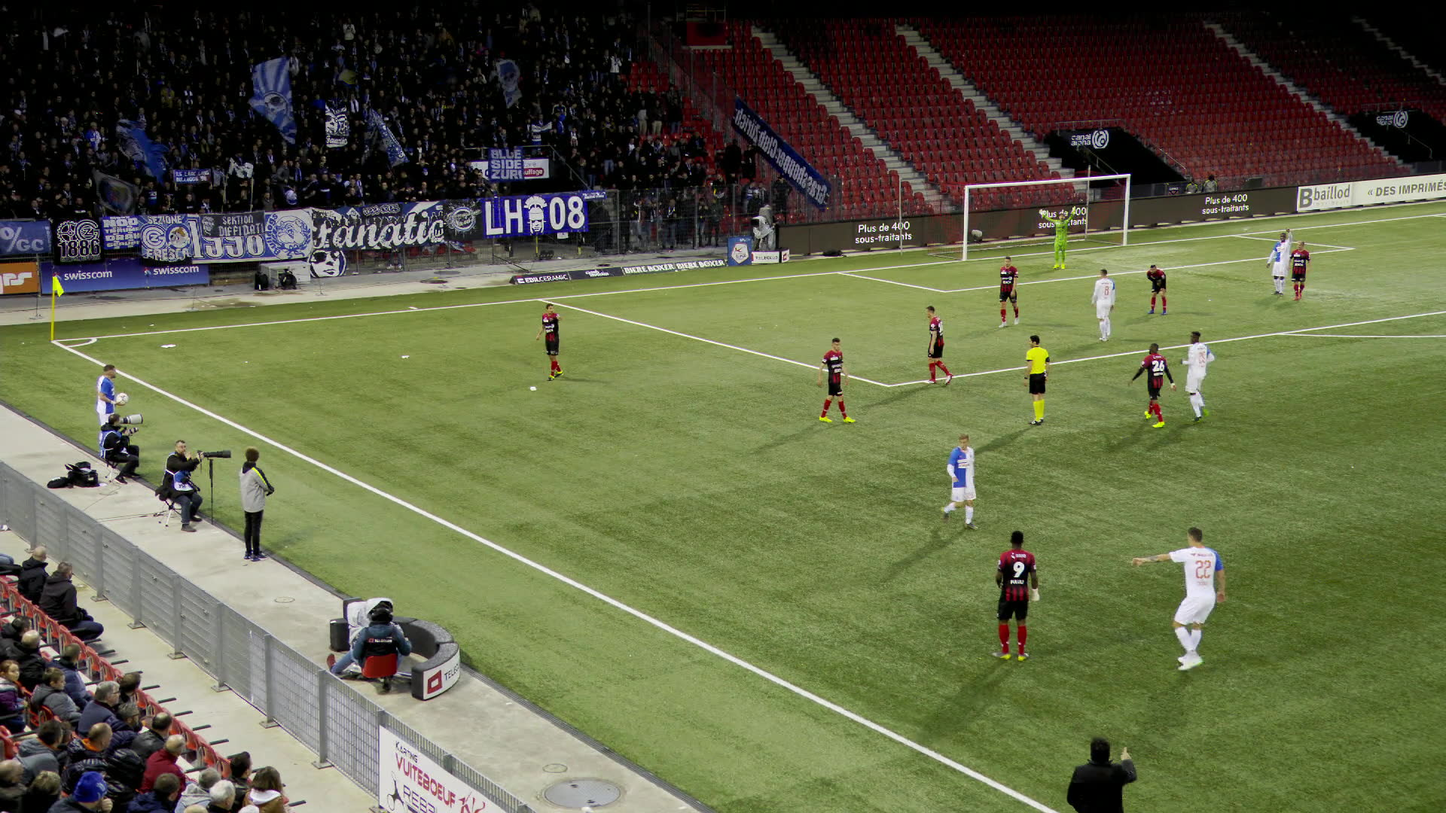ball: (115, 392, 129, 404)
player: (1127, 529, 1230, 672), (990, 530, 1038, 662), (1127, 343, 1176, 428), (940, 433, 980, 530), (814, 336, 856, 424), (1179, 330, 1214, 424), (1038, 207, 1077, 269), (923, 305, 953, 385), (535, 303, 563, 381), (93, 364, 122, 430), (1264, 227, 1291, 296), (1091, 270, 1115, 343), (996, 256, 1020, 327), (1286, 239, 1309, 300), (1145, 263, 1166, 315)
referee: (1022, 333, 1050, 425)
